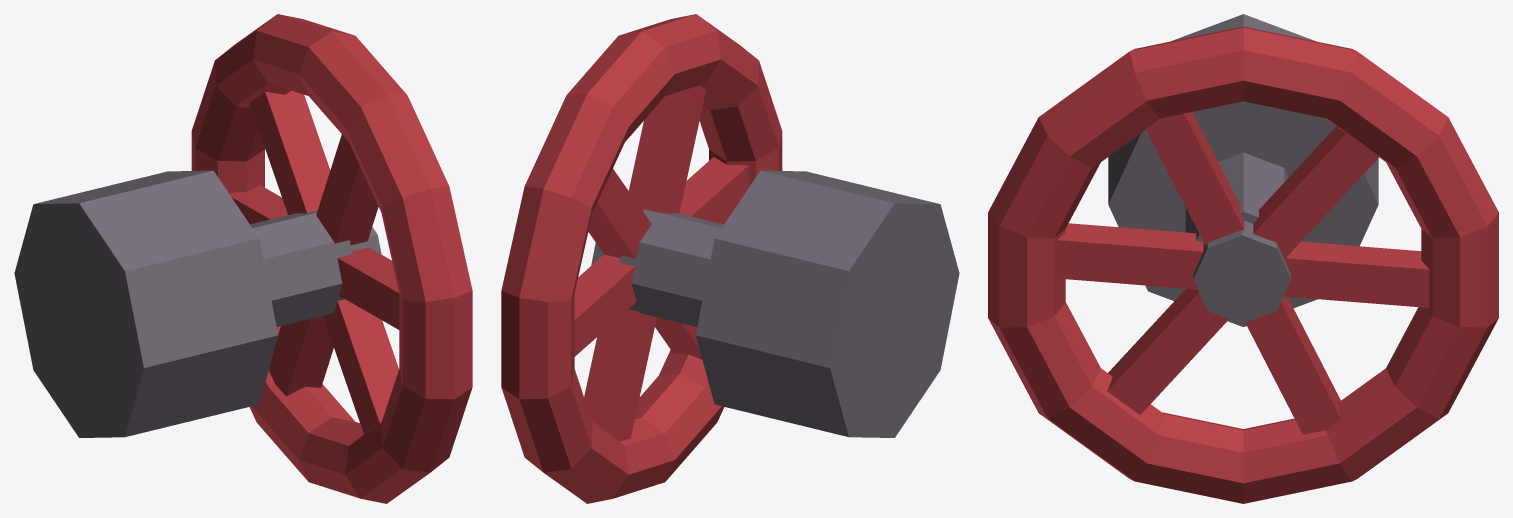
The model's file is pipegrayvalve.fbx.
3 renders of one model, left to right at view 1: azimuth 30°, elevation 25°; view 2: azimuth 150°, elevation 25°; view 3: azimuth 270°, elevation 25°, orthographic. The views are drawn at different scales.
Parts seen in each view (by area): view 1: Cylinder.027; view 2: Cylinder.027; view 3: Cylinder.027.
Part boxes in pixels (x1,y1,x2,y2): Cylinder.027: (14,14,472,503); Cylinder.027: (501,14,959,503); Cylinder.027: (988,14,1498,503).
Bounding box in the file's own units: 121 × 184 × 179.
